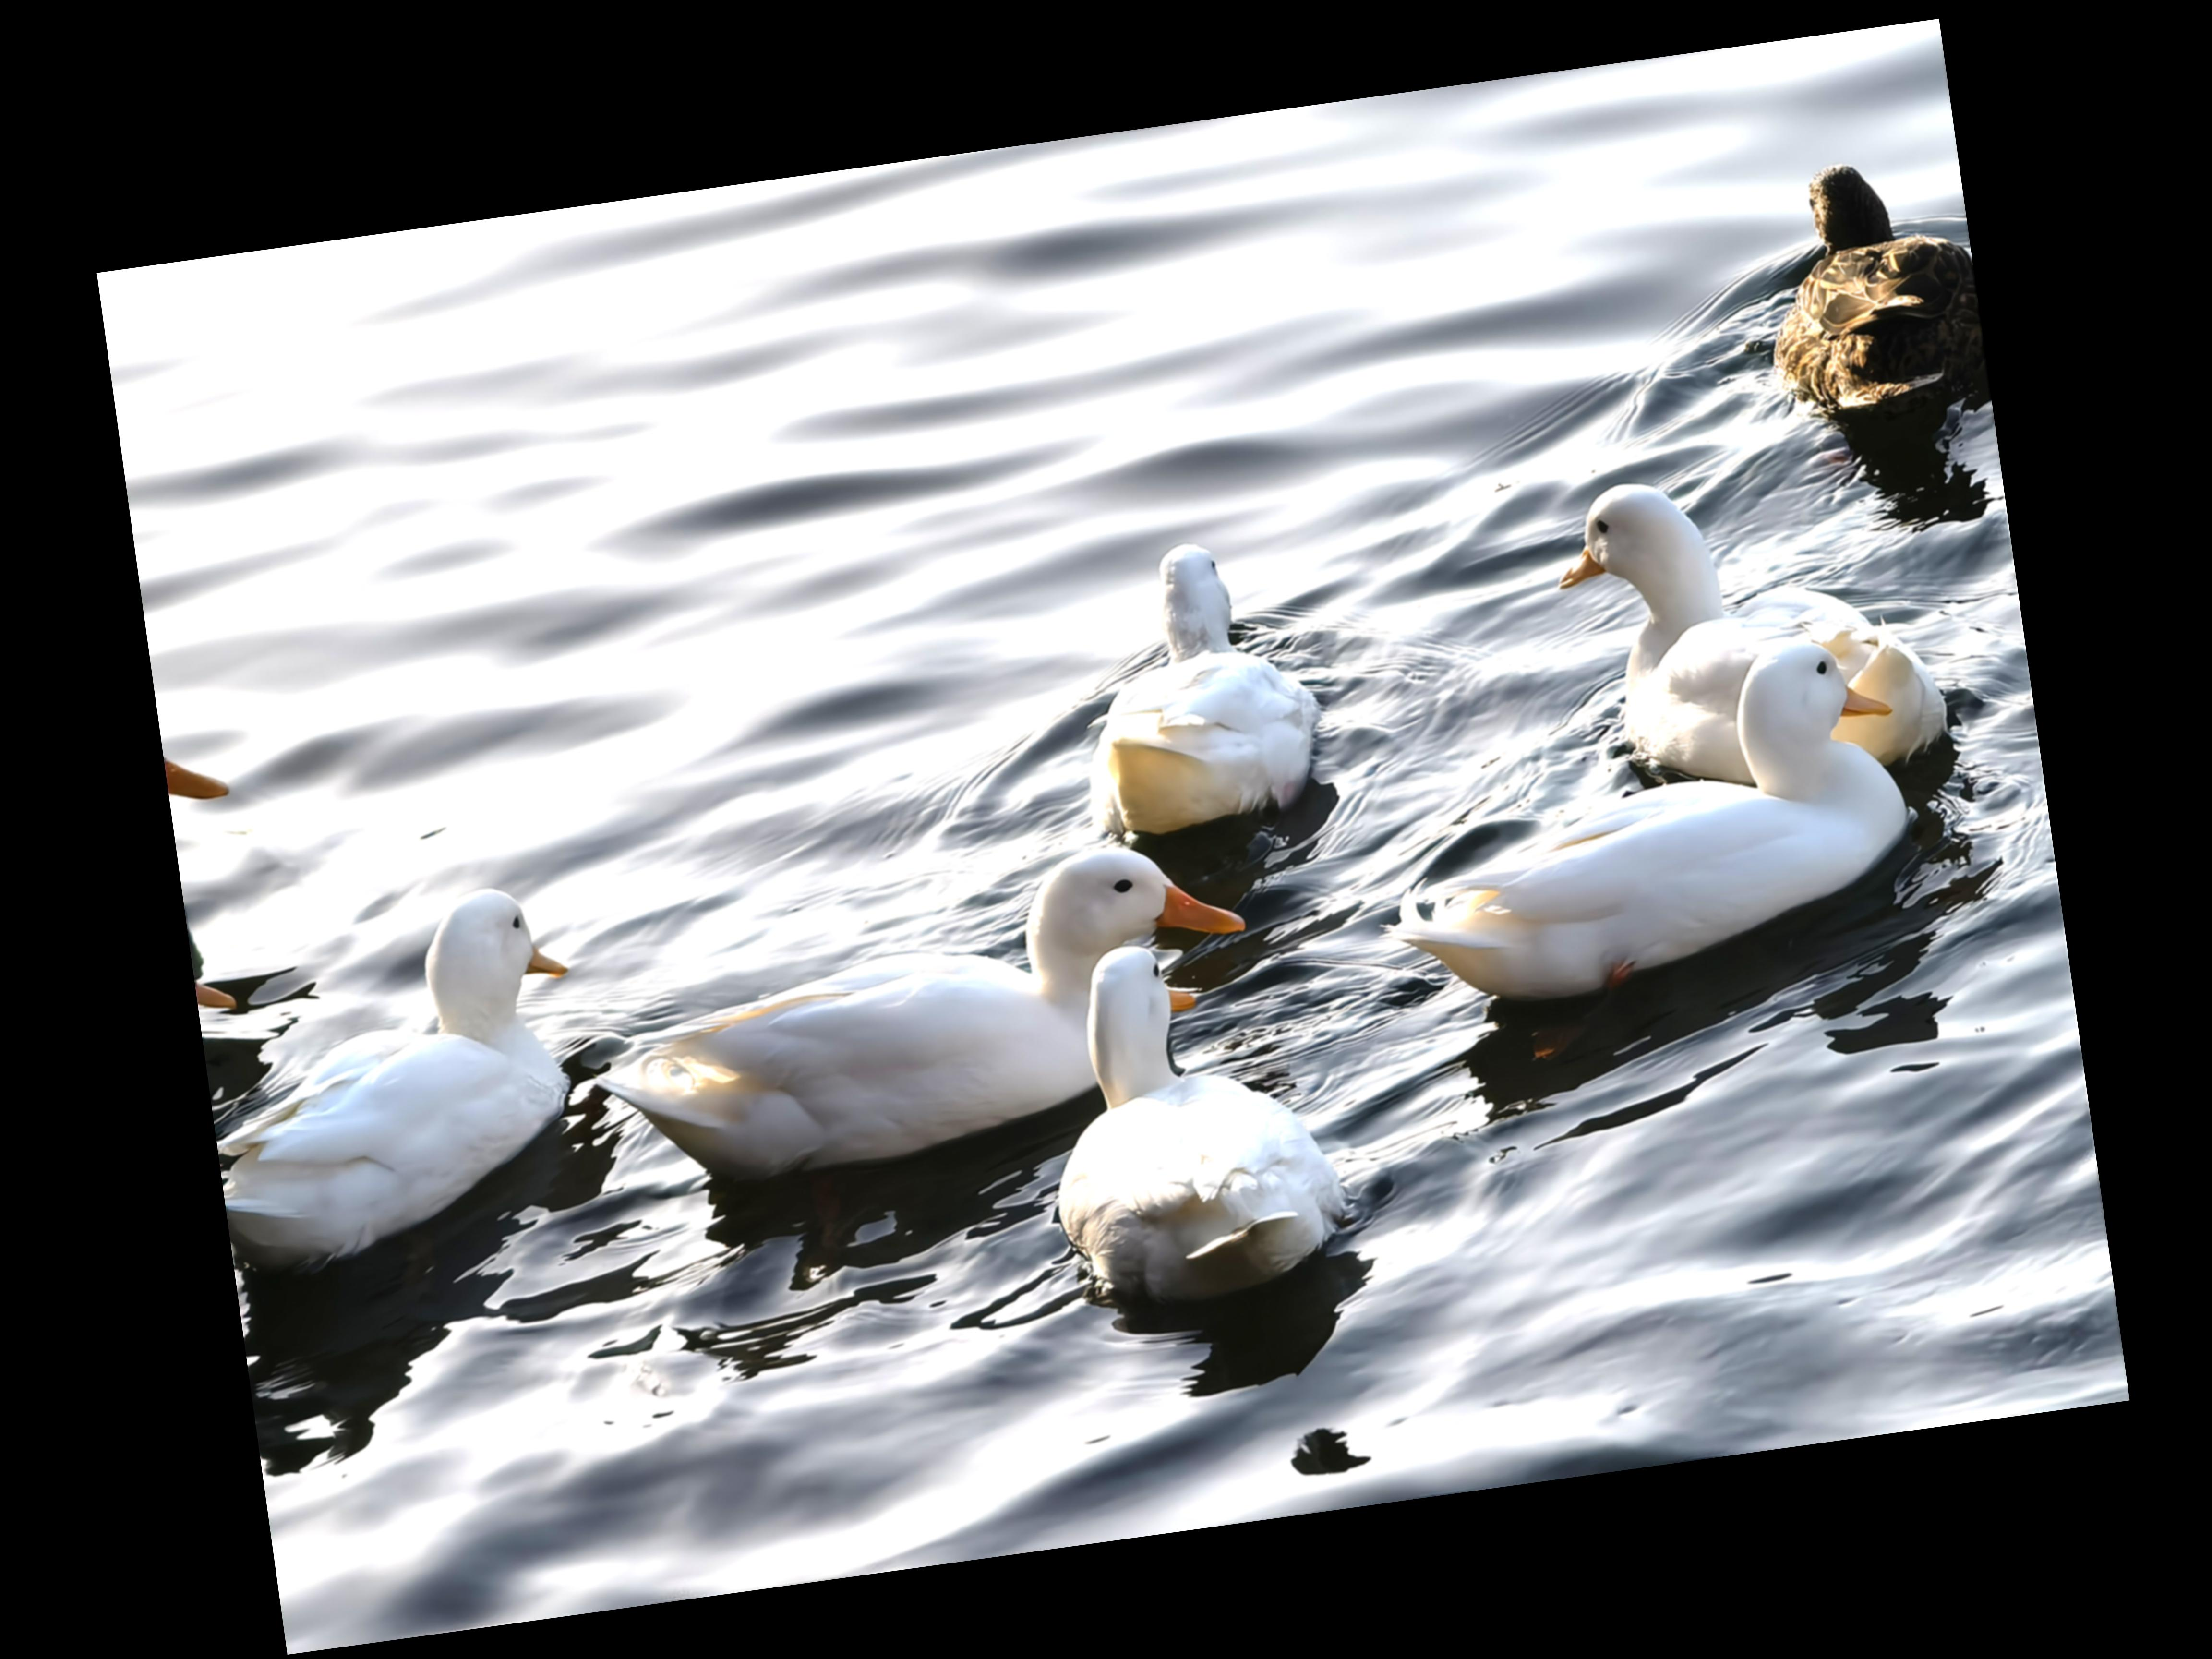duck: (580, 817, 1291, 1208), (1362, 619, 1947, 1044), (1496, 413, 1984, 803), (185, 856, 622, 1274), (1017, 906, 1386, 1340), (1057, 505, 1352, 833), (1757, 127, 1994, 450)
